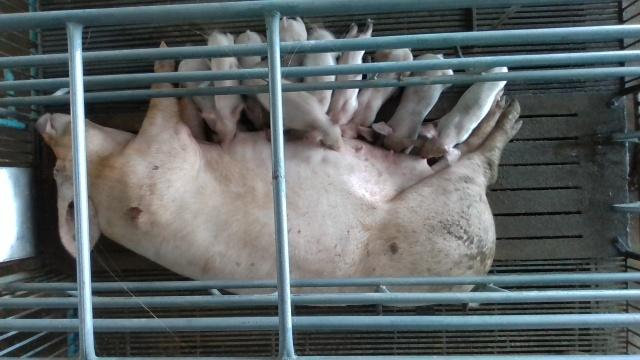piglet: (417, 66, 508, 159), (371, 54, 454, 153), (247, 79, 344, 152), (341, 48, 413, 139), (327, 19, 374, 125), (203, 31, 243, 141), (233, 31, 270, 129), (301, 26, 340, 114), (179, 57, 217, 132), (278, 18, 307, 84)
sow-sleep-lactate: (36, 42, 522, 307)
